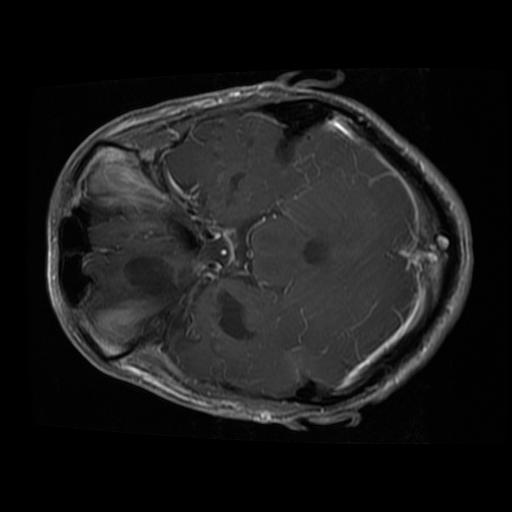glioma: (122, 254, 175, 298)
